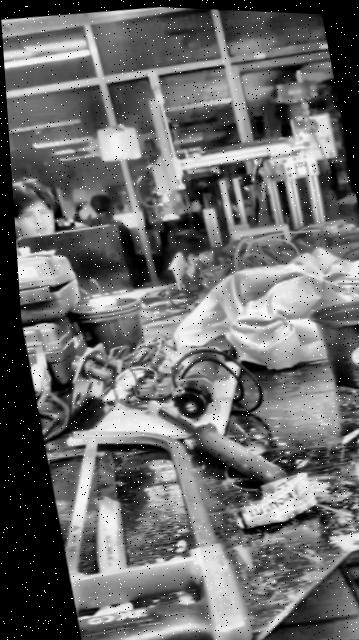pot: (306, 297, 359, 463), (64, 299, 152, 362)
